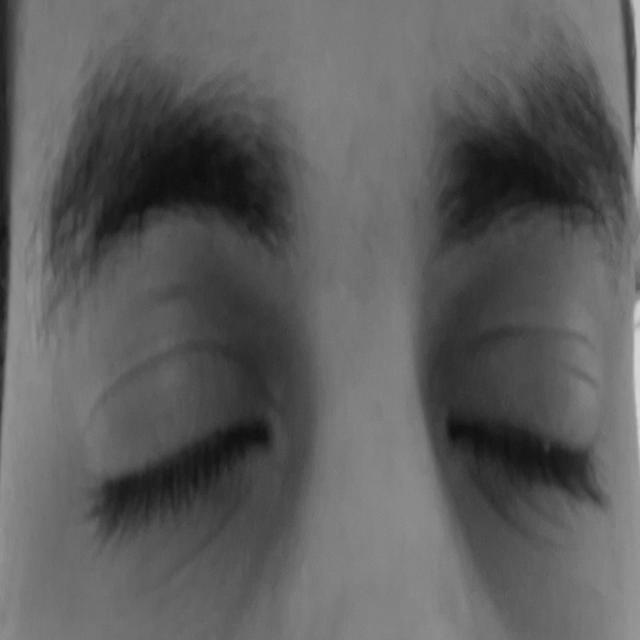real: (42, 141, 630, 594)
